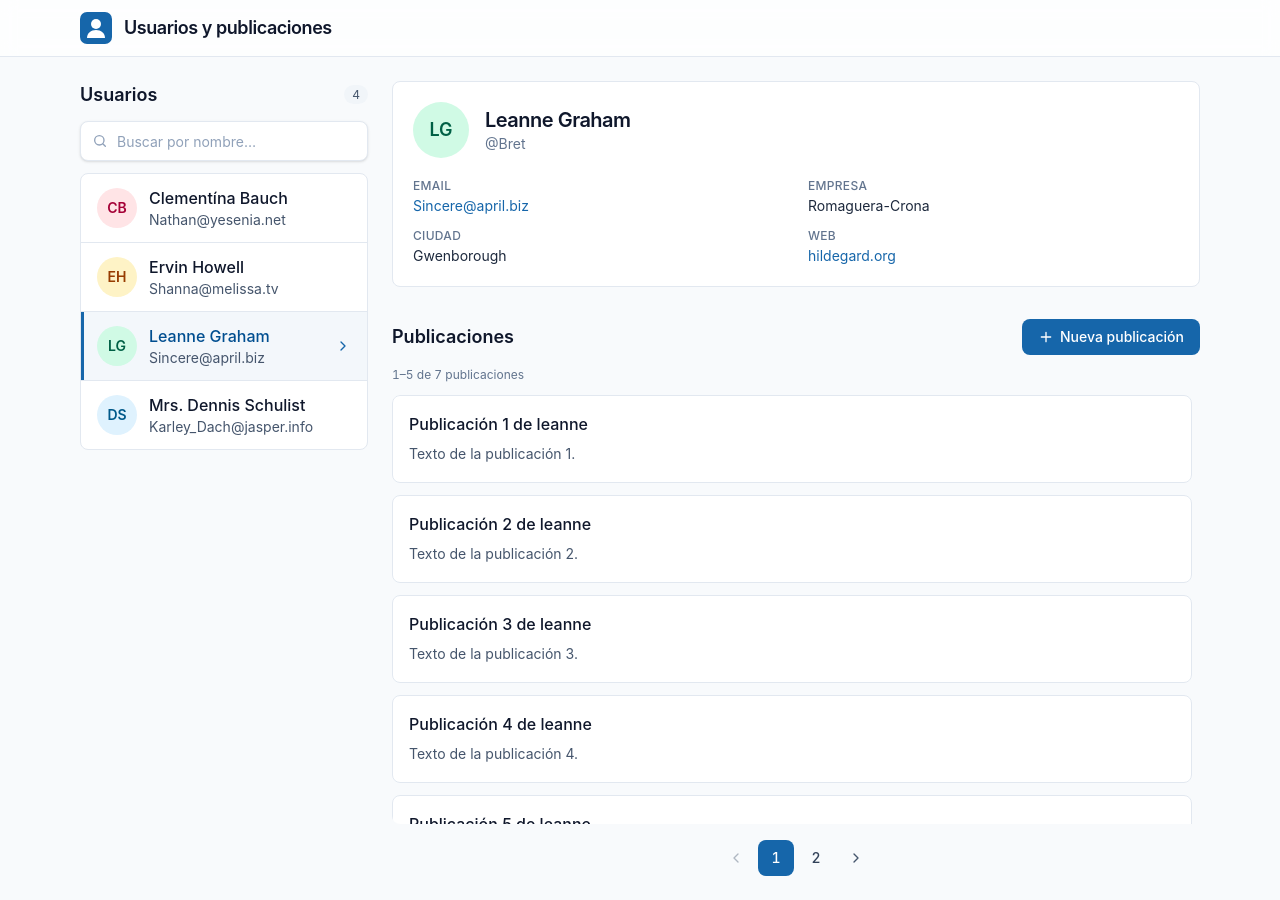
Test case: Nueva publicación › crea la publicación, la pone la primera y confirma con un toast
Check: the list named "Publicaciones" is shown, box [392, 395, 1200, 824]
Click the button "Nueva publicación" at (1111, 337), box [1022, 319, 1200, 355]
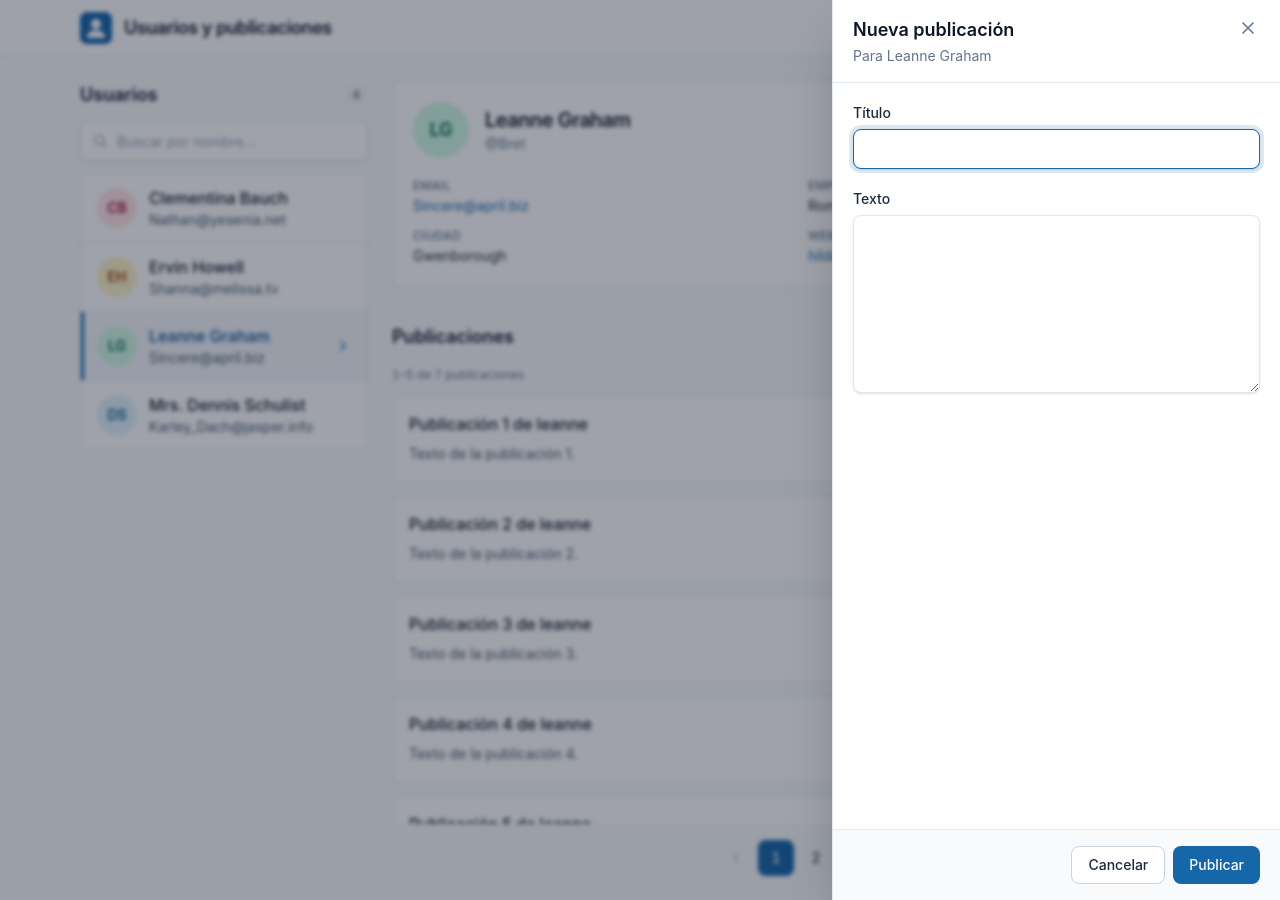
Type "Mi primera publicación" into the field labelled "Título" at (1056, 149), box [853, 129, 1260, 169]
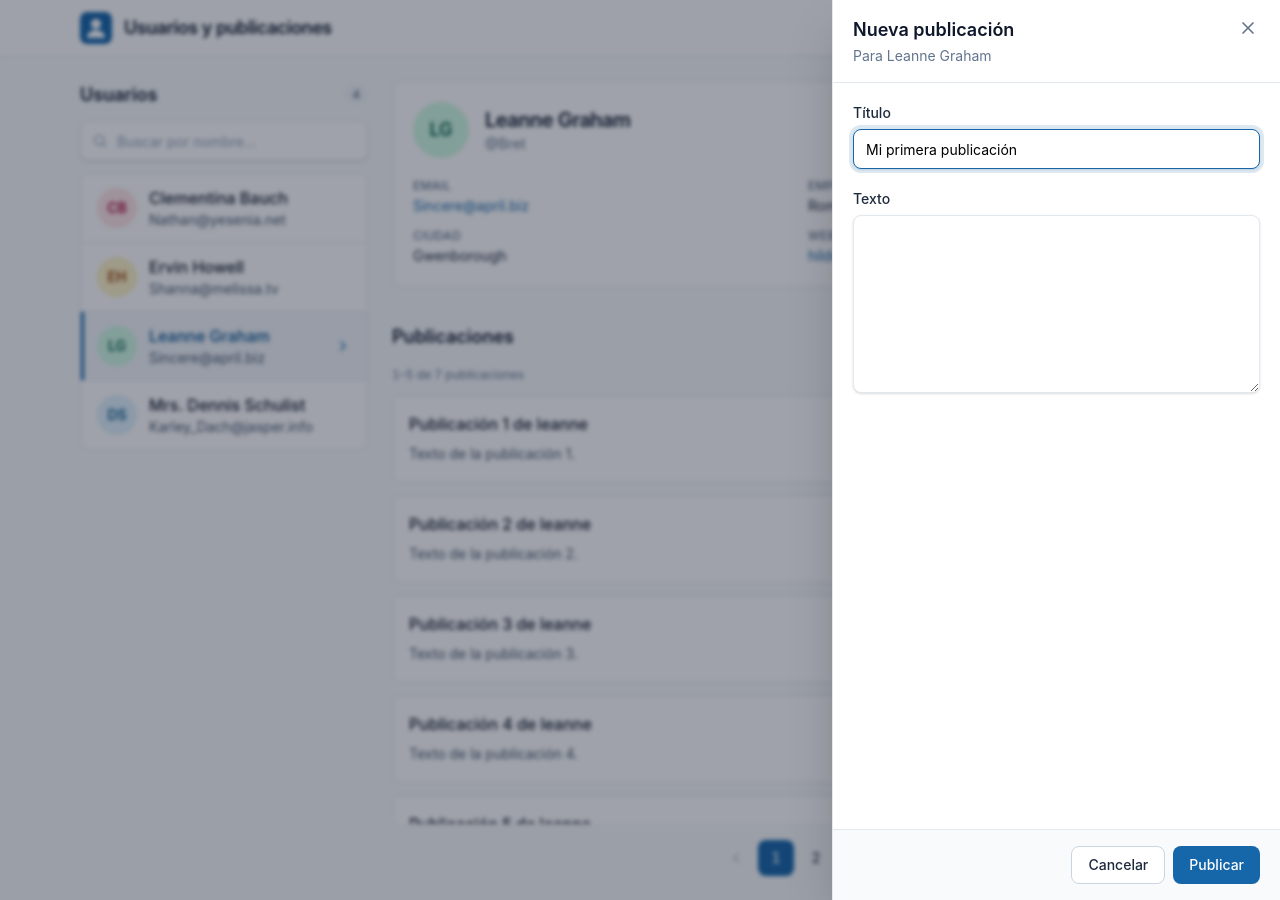
Type "Hola desde los tests." into the text box labelled "Texto" at (1056, 304), box [853, 215, 1260, 393]
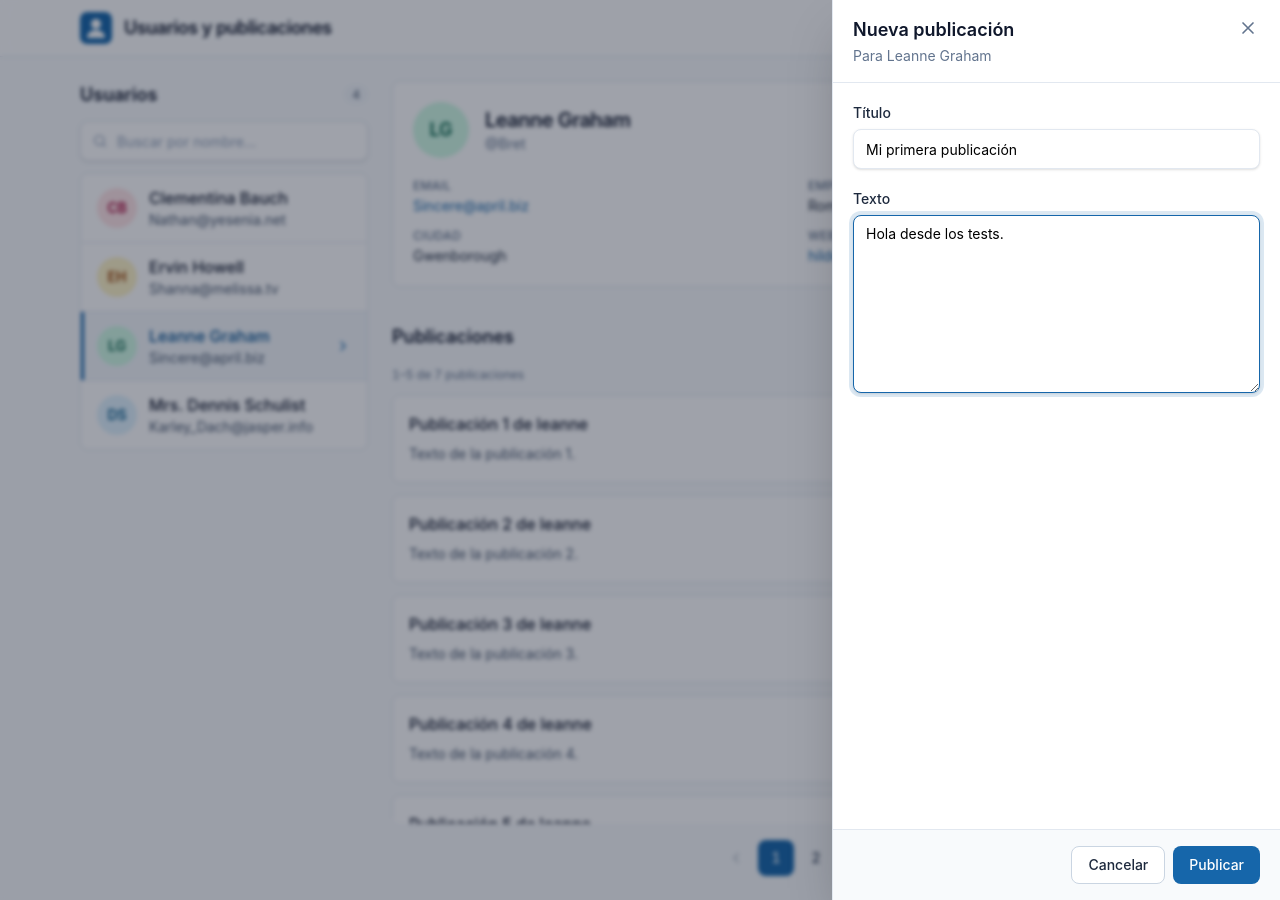
Click the button "Publicar" at (1217, 865), box [1173, 846, 1260, 884]
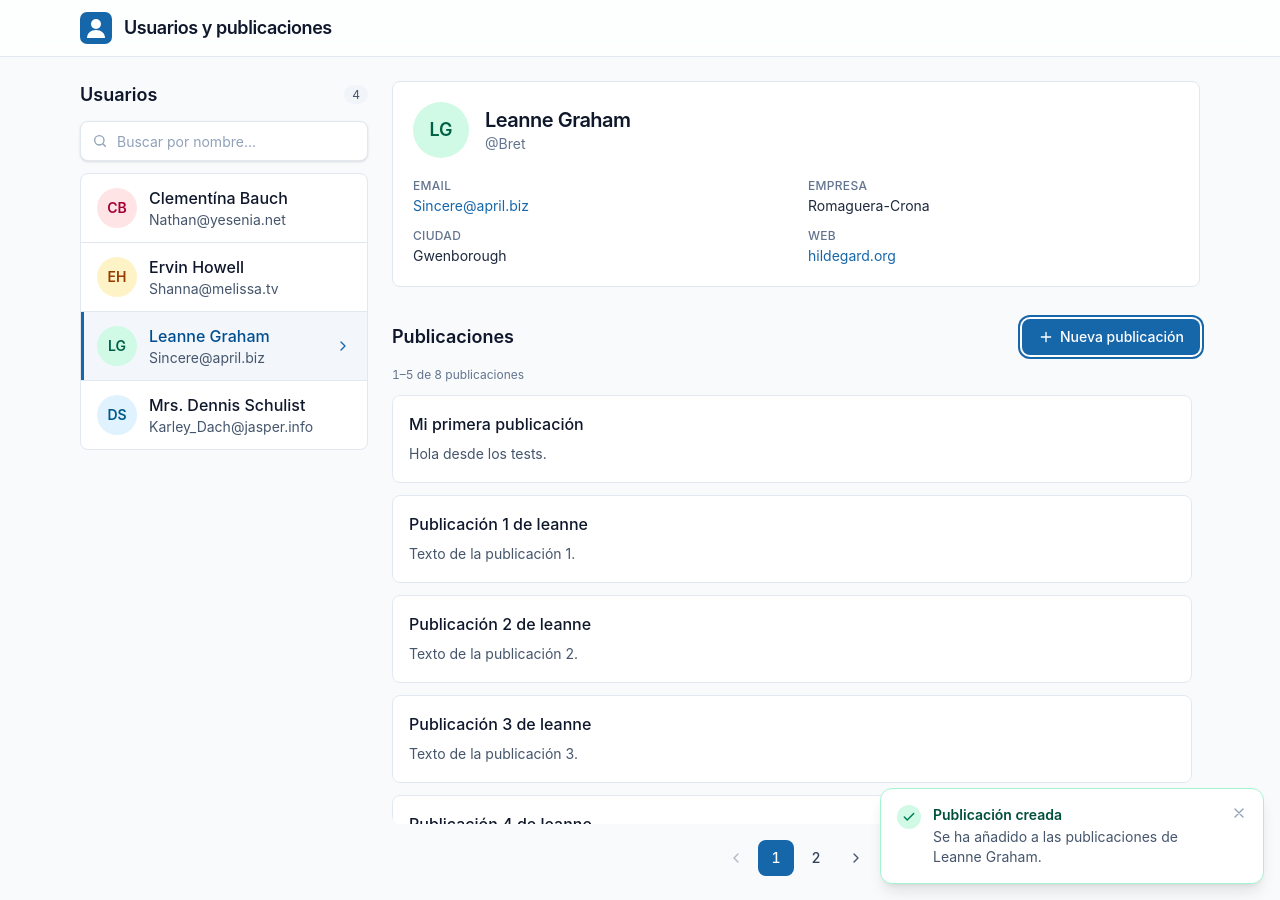
Check: the text "Publicación creada" is shown, box [933, 806, 1062, 823]
Check: the heading "Mi primera publicación" is shown, box [409, 414, 584, 434]
Check: the text "1–5 de 8 publicaciones" is shown, box [392, 367, 524, 382]
